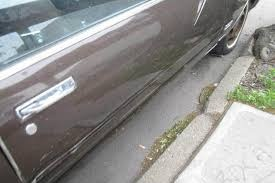Scratch: (191, 1, 211, 26)
